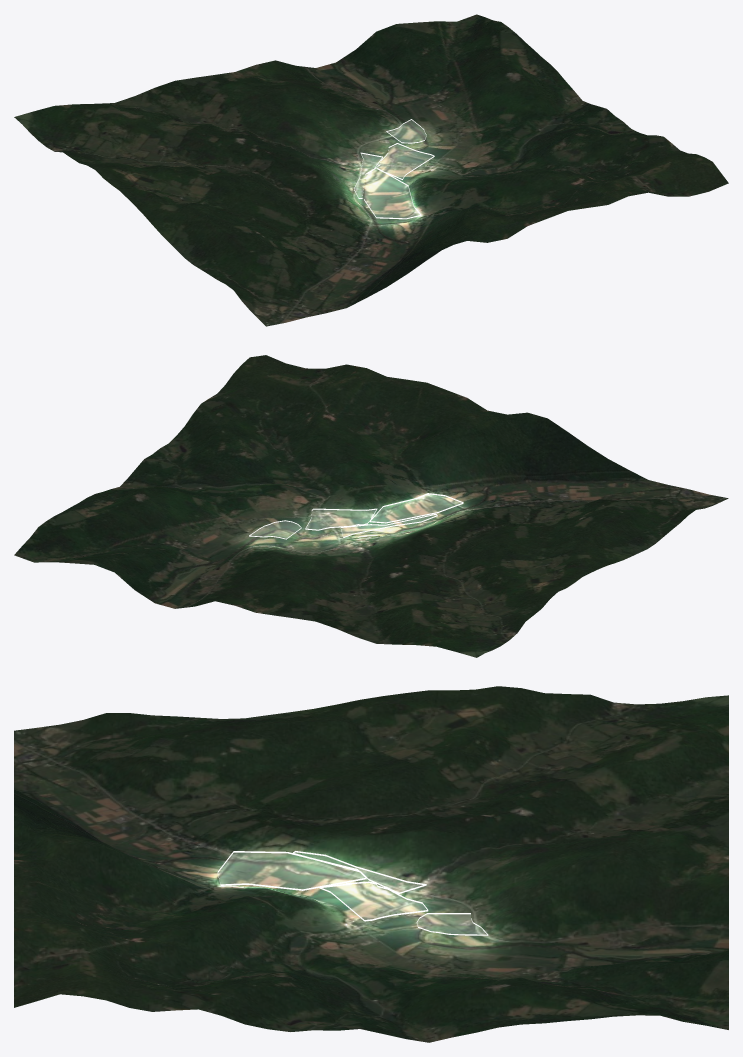
File: mapnewb.glb
3 views of the same model, one above another, from view 1: azimuth 30°, elevation 25°; view 2: azimuth 150°, elevation 25°; view 3: azimuth 270°, elevation 25° (orthographic). The views are drawn at different scales.
Parts seen in each view (by area): view 1: EXPORT_GOOGLE_SAT_WM.002, Plane.001; view 2: EXPORT_GOOGLE_SAT_WM.002, Plane.001; view 3: EXPORT_GOOGLE_SAT_WM.002, Plane.001.
Part boxes in pixels (x1,y1,x2,y2): EXPORT_GOOGLE_SAT_WM.002: [14, 14, 728, 326]; Plane.001: [354, 119, 434, 219]; EXPORT_GOOGLE_SAT_WM.002: [14, 355, 728, 657]; Plane.001: [249, 493, 463, 539]; EXPORT_GOOGLE_SAT_WM.002: [14, 686, 728, 1042]; Plane.001: [217, 851, 488, 935].
Bounding box in the file's own units: 87.9 × 7.87 × 82.93.
3 materials, 1 textured.
